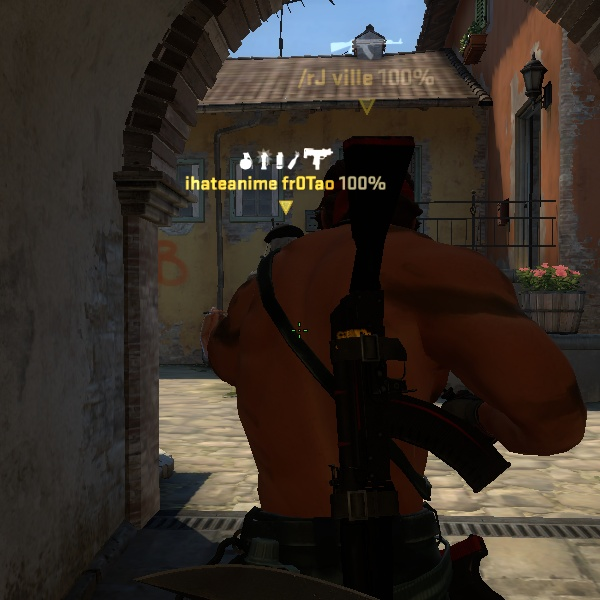t_body: (80, 0, 600, 600)
